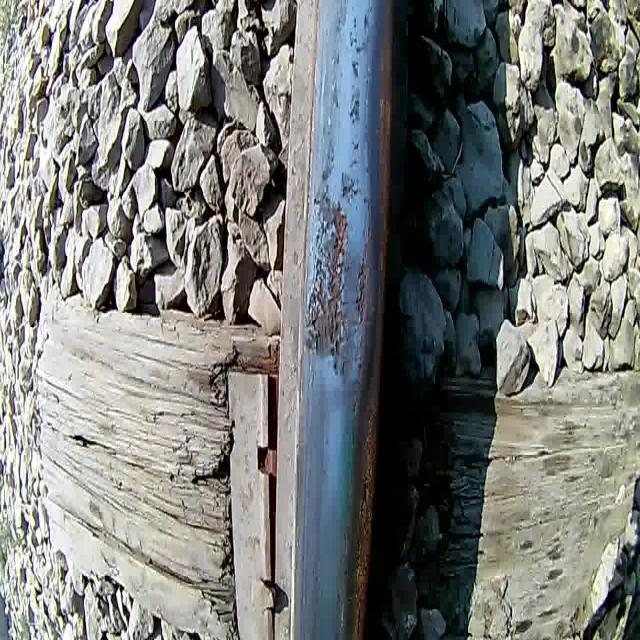Cracks: (306, 212, 332, 355), (332, 195, 349, 324)
Spallings: (352, 191, 376, 325), (325, 301, 351, 375)
Squats: (302, 175, 379, 398), (317, 125, 337, 189), (343, 11, 373, 48), (346, 84, 364, 126), (347, 135, 362, 173), (326, 79, 342, 114), (348, 54, 363, 84), (330, 45, 343, 71)
